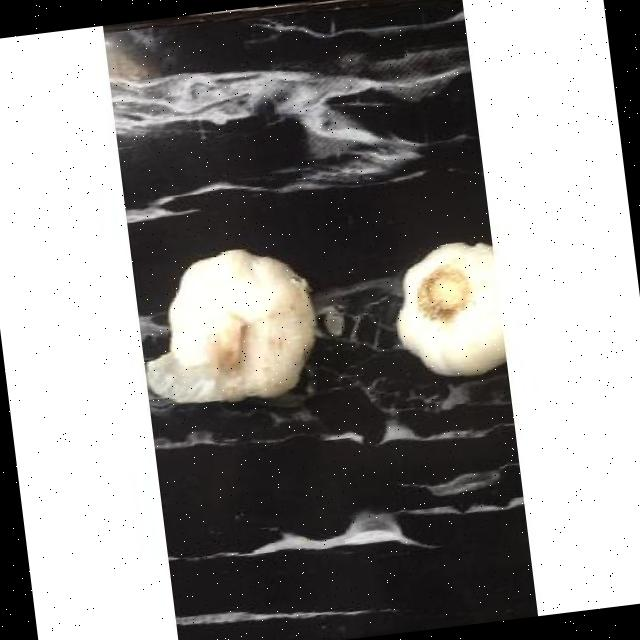garlic: (145, 248, 312, 402), (395, 241, 504, 375)
